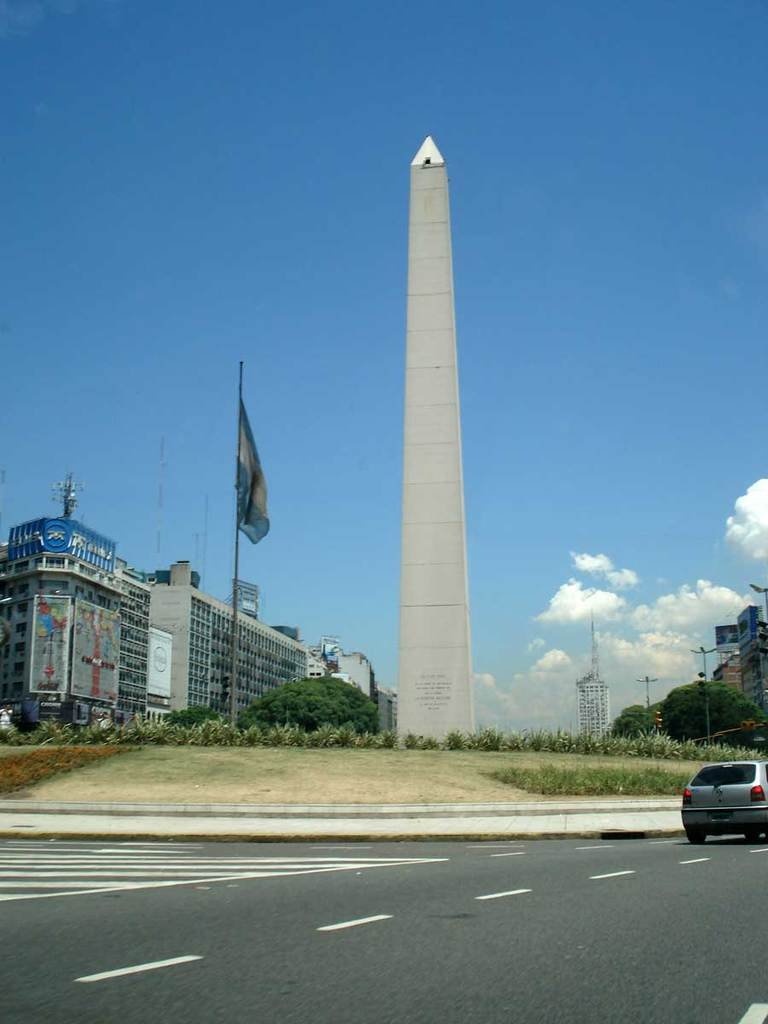Car: (684, 755, 767, 845)
